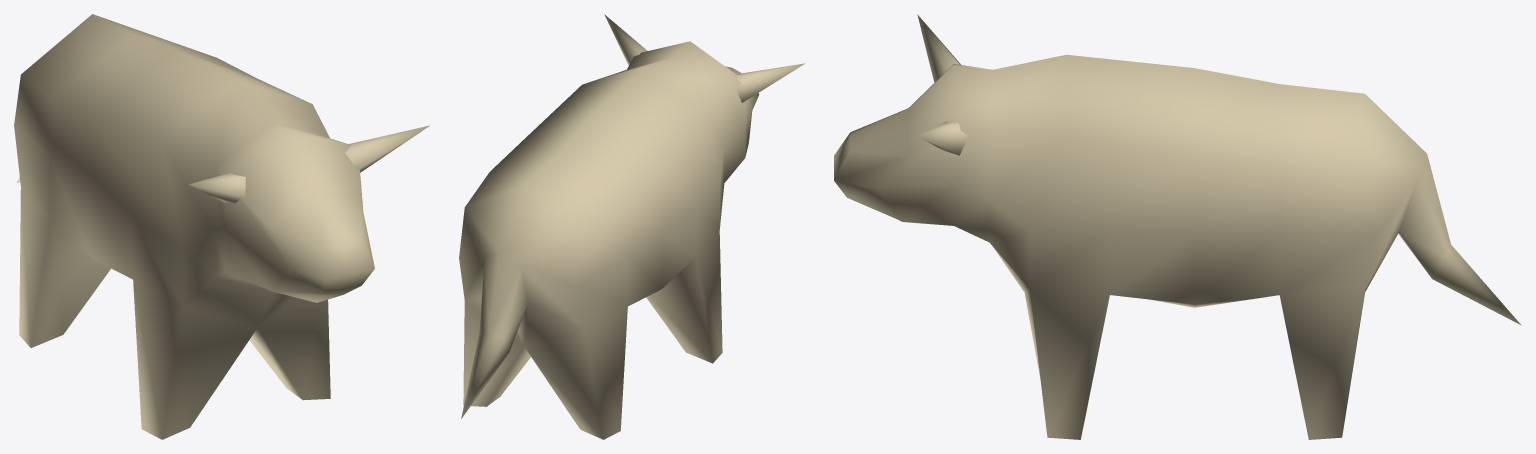
Rendered from SM_Cow_01.fbx.
The picture shows the model from 3 angles, left to right: view 1: azimuth 30°, elevation 25°; view 2: azimuth 150°, elevation 25°; view 3: azimuth 270°, elevation 25°; orthographic projection. The views are drawn at different scales.
Parts seen in each view (by area): view 1: SM_Blockout_Cow_01; view 2: SM_Blockout_Cow_01; view 3: SM_Blockout_Cow_01.
Part boxes in pixels (left/top/right/bottom): SM_Blockout_Cow_01: left=14, top=14, right=430, bottom=439; SM_Blockout_Cow_01: left=459, top=14, right=805, bottom=439; SM_Blockout_Cow_01: left=834, top=14, right=1521, bottom=439.
Size of the model in its own units: 55.43 by 72.18 by 132.
